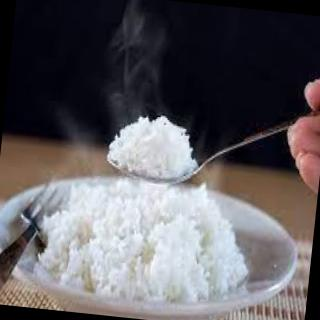Nasi: (28, 171, 260, 312), (104, 109, 202, 181)
